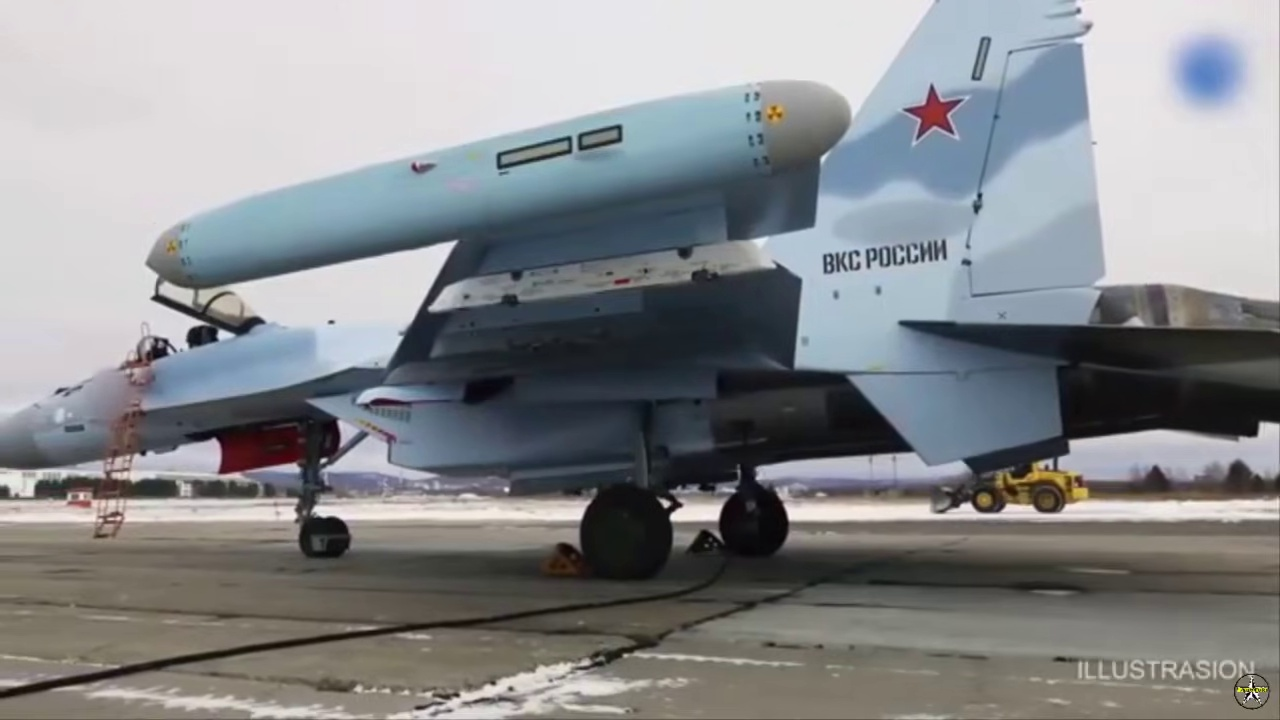Su35: (2, 0, 1280, 590)
